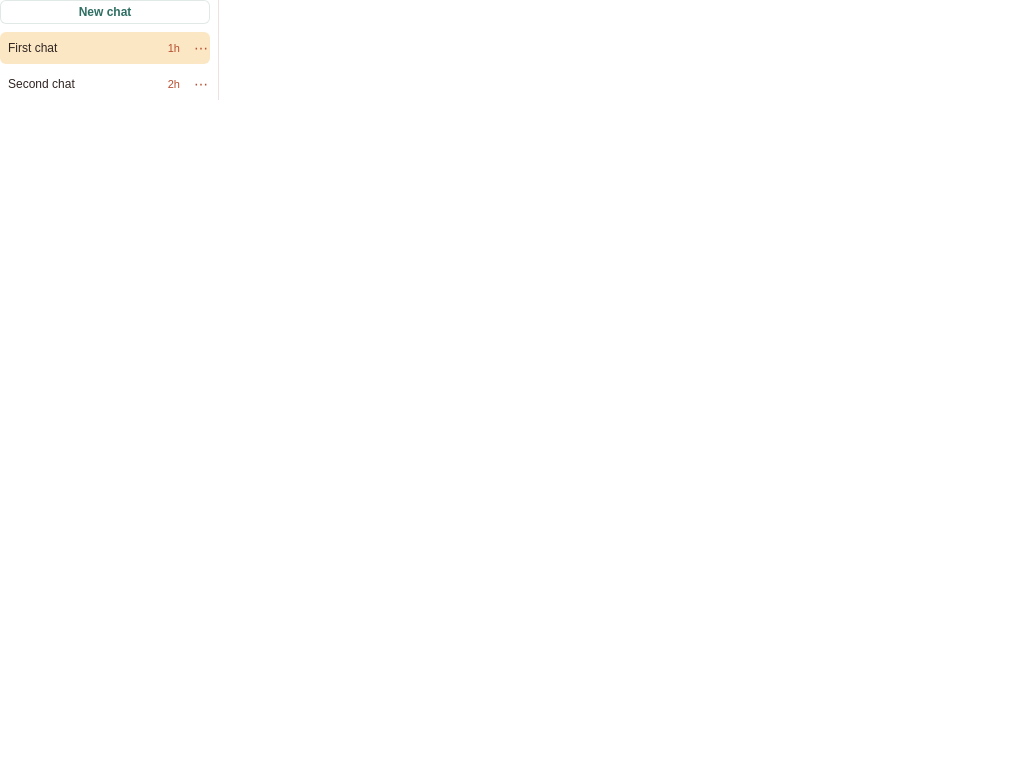
Test: ChatHistory › disables Save and shows a hint for a title with special symbols
Step 1. Click the button named "Options for First chat" → (199, 48), box [188,37,210,59]
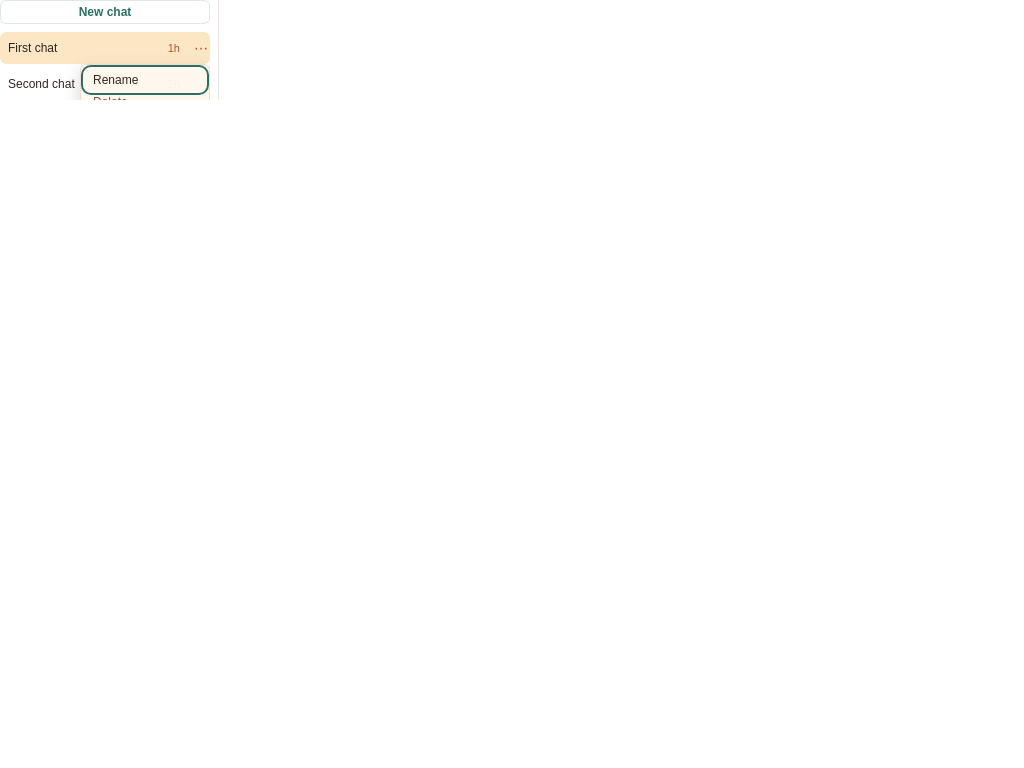
Step 2. Click the menu item "Rename" → (145, 80), box [85,69,205,91]
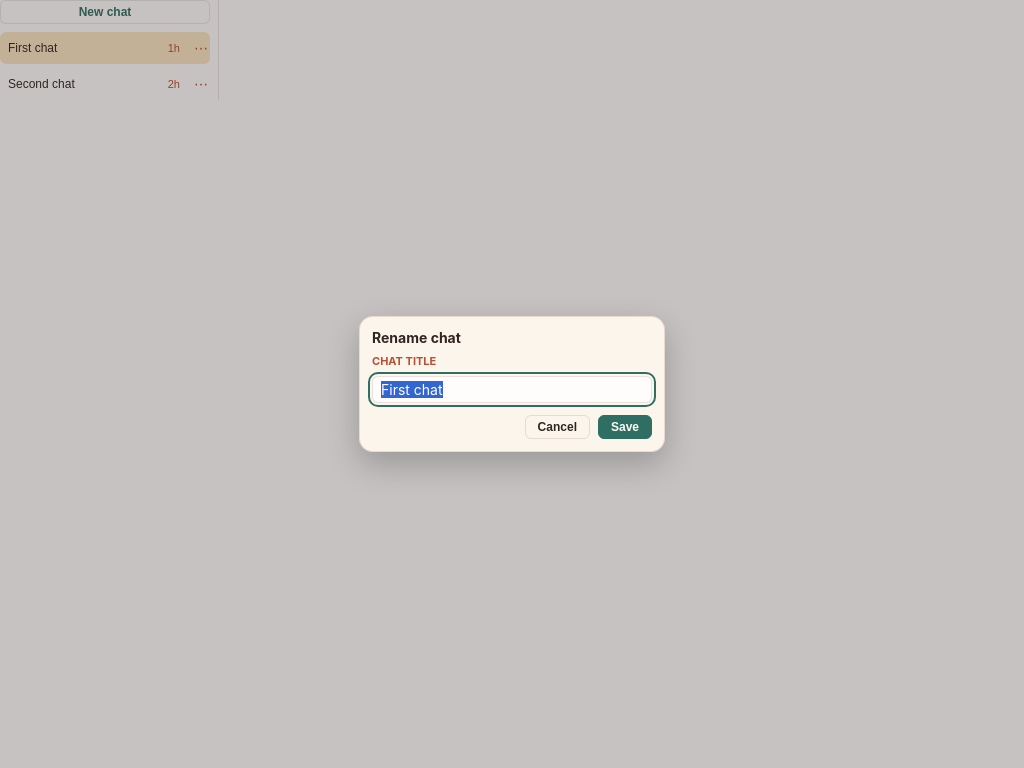
Step 3. Replace the text in the field labelled "Chat title" with "bad@name" → (512, 390), box [372,376,652,403]
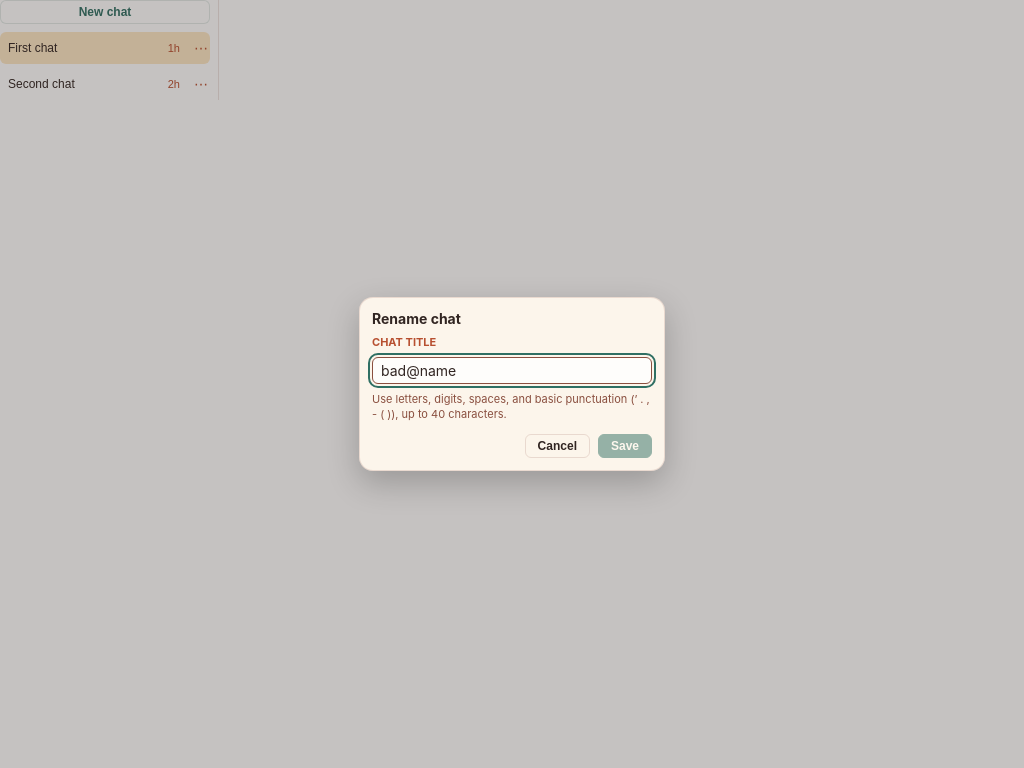
Check: the button "Save" is disabled, box [598,434,652,458]
Check: the text "letters, digits" is shown, box [372,392,650,421]
